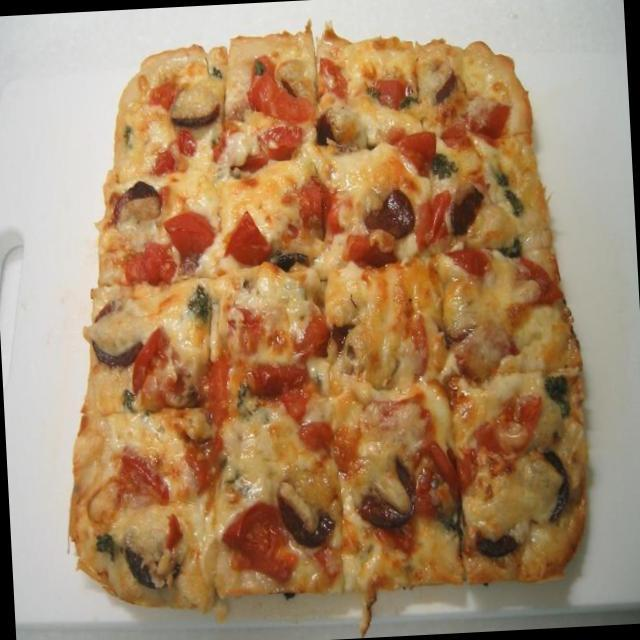Pizza: (40, 20, 599, 614)
